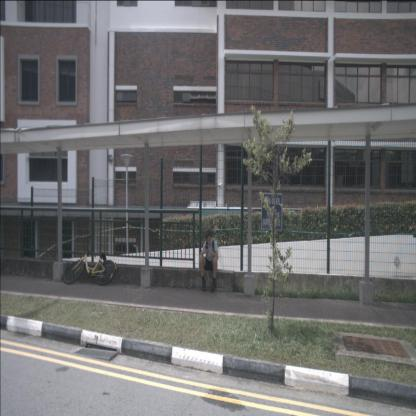human-pedestrian-adult: (199, 228, 219, 292)
vehicle-bicycle: (63, 228, 117, 286)
